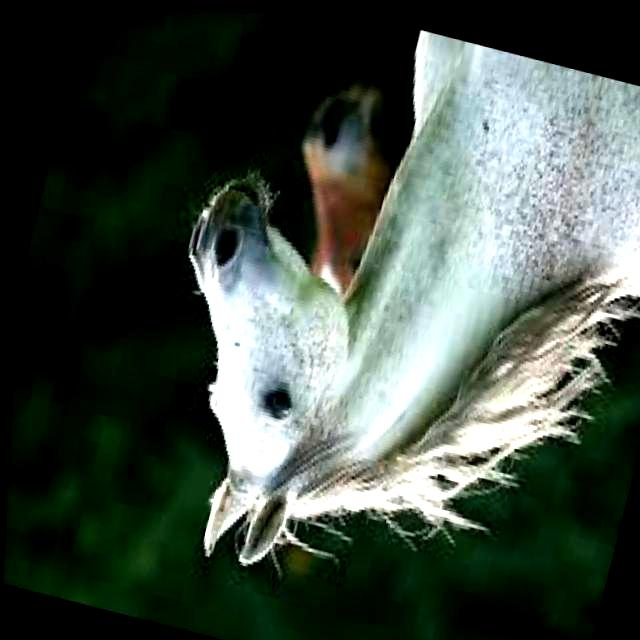horse: (125, 63, 597, 451)
